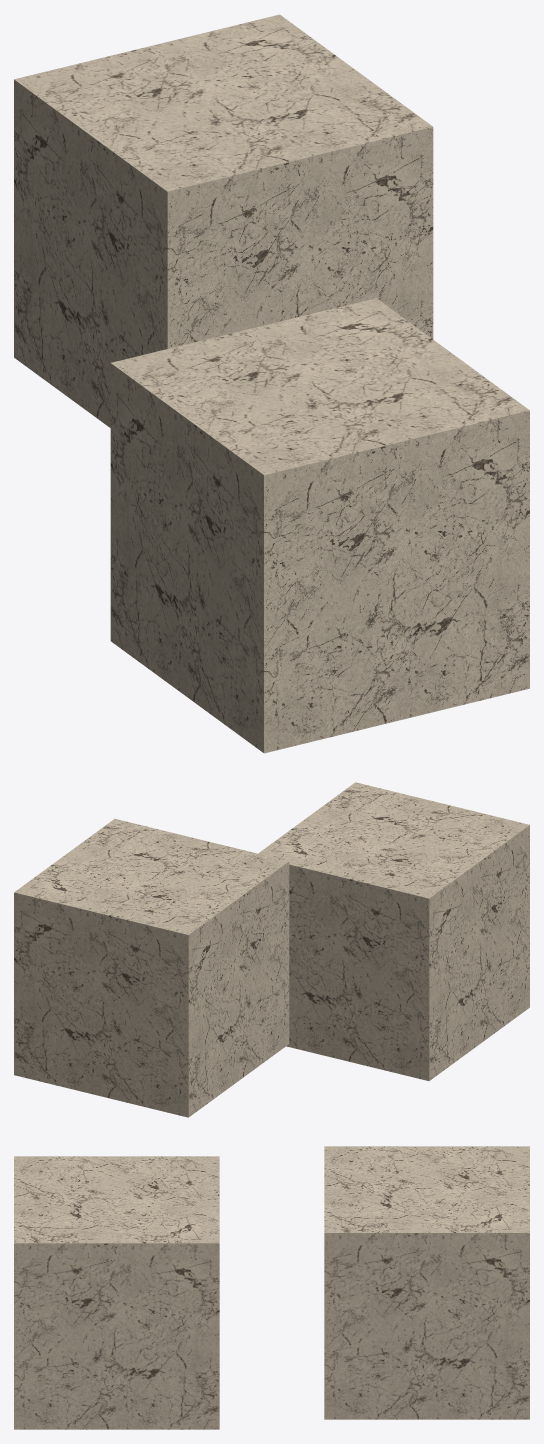
The picture shows the model from 3 angles, top to bottom: view 1: azimuth 30°, elevation 25°; view 2: azimuth 150°, elevation 25°; view 3: azimuth 270°, elevation 25°; orthographic projection. The views are drawn at different scales.
Parts seen in each view (by area): view 1: Cube, Cube.001; view 2: Cube.001, Cube; view 3: Cube, Cube.001.
Boxes of the visible parts, x1,y1,x2,y2 form: Cube: (110,298,529,753); Cube.001: (14,14,433,427); Cube.001: (14,819,289,1117); Cube: (258,782,529,1080); Cube: (14,1156,219,1429); Cube.001: (324,1146,529,1419).
Size of the model in its own units: 3.02 by 2.58 by 5.02.
Materials: 2 (2 with a texture image).
